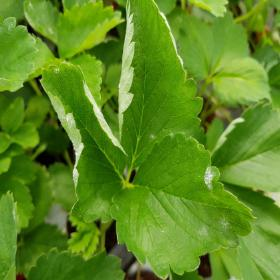Powdery Mildew Leaf: (109, 132, 258, 279), (118, 0, 208, 171), (39, 61, 129, 223), (210, 101, 279, 191), (0, 189, 19, 279), (23, 0, 62, 43)
